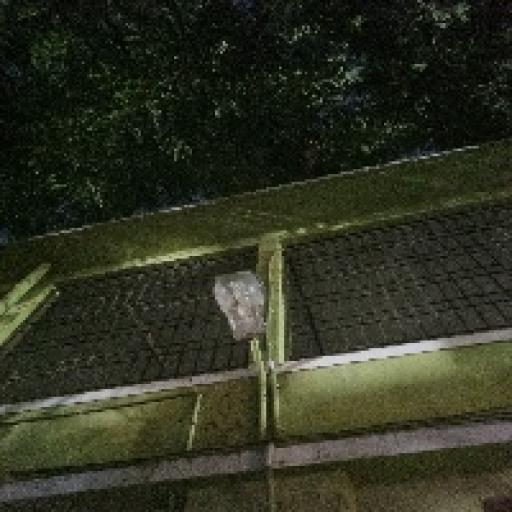Not Working: (200, 252, 287, 358)
